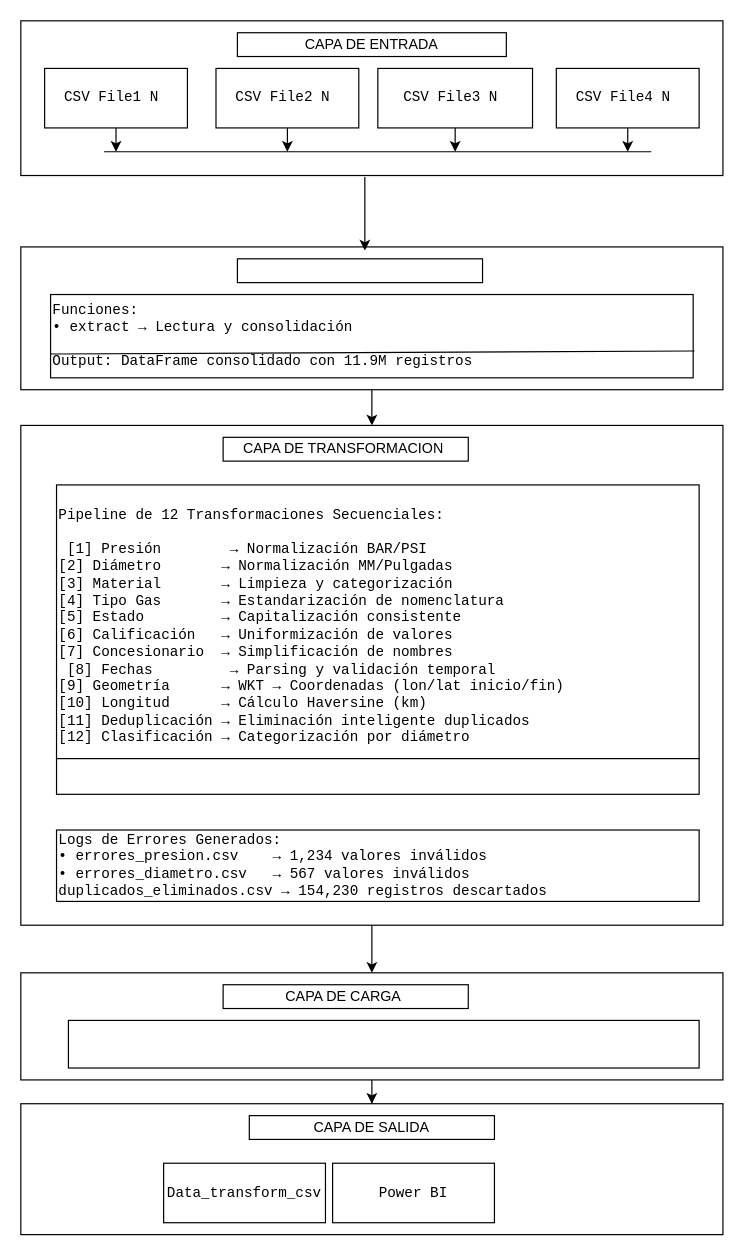
The diagram is 744 pixels wide and 1255 high, and some of its shapes have lost their labels. Here are the shapes that lost their labels. From the top down, the centre of each, then its label:
At (359,270): "CAPA DE EXTRACCIÓN".
At (377,775): "Output: DataFrame limpio y enriquecido".
At (383,1043): "Funciones: • save_to_csv() → Export CSV".
